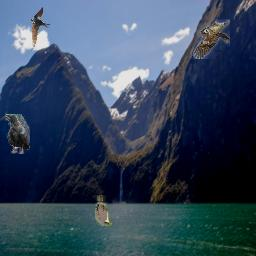Crow: (5, 114, 30, 154)
Cuckoo: (95, 195, 112, 226)
Sparrow: (193, 19, 230, 59)
Swallow: (30, 7, 50, 47)
